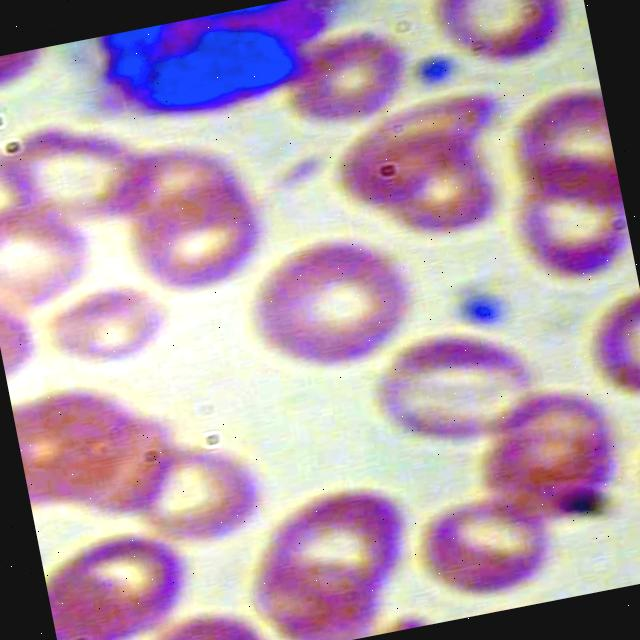Platelets: (450, 281, 516, 342), (409, 48, 458, 98)
